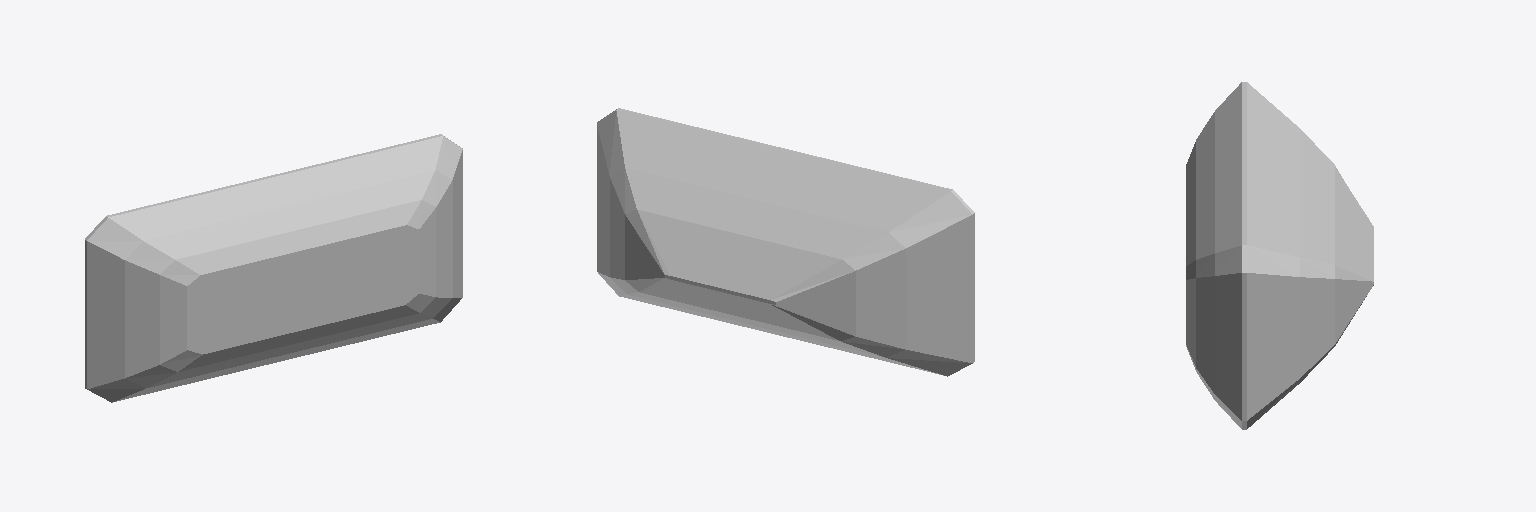
File: gem4.obj
The picture shows the model from 3 angles: view 1: azimuth 30°, elevation 25°; view 2: azimuth 150°, elevation 25°; view 3: azimuth 270°, elevation 25°; orthographic projection.
Visible parts, largest first — view 1: emerald__0; view 2: emerald__0; view 3: emerald__0.
Part boxes in pixels (x1,y1,x2,y2): emerald__0: (85, 134, 462, 402); emerald__0: (597, 108, 974, 376); emerald__0: (1186, 82, 1373, 429).
Size of the model in its own units: 0.3274 by 0.1548 by 0.1418.